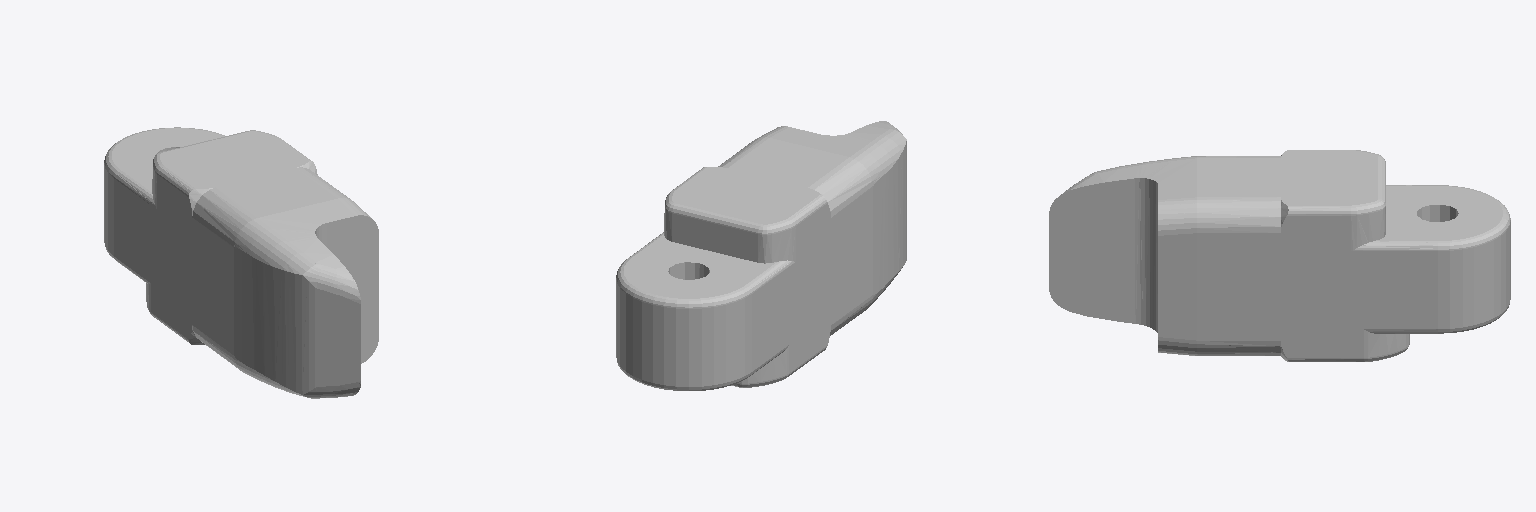
File: ll_dg_5_4_c_mesh_World_mesh.obj
The picture shows the model from 3 angles: view 1: azimuth 30°, elevation 25°; view 2: azimuth 150°, elevation 25°; view 3: azimuth 270°, elevation 25°; orthographic projection.
Size of the model in its own units: 0.019 by 0.0224 by 0.06.